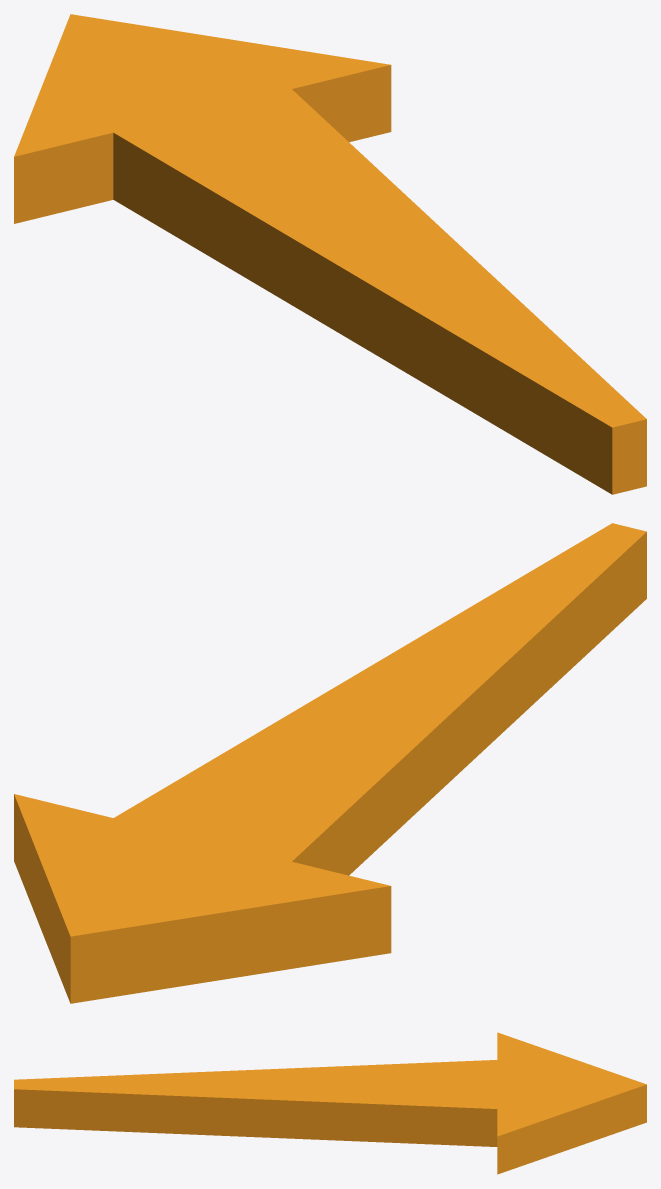
Rendered from SM_Icon_Arrow_Long_02.fbx.
3 views of the same model, one above another, from view 1: azimuth 30°, elevation 25°; view 2: azimuth 150°, elevation 25°; view 3: azimuth 270°, elevation 25° (orthographic). The views are drawn at different scales.
Visible parts, largest first — view 1: SM_Icon_Arrow_Long_02; view 2: SM_Icon_Arrow_Long_02; view 3: SM_Icon_Arrow_Long_02.
Boxes of the visible parts, x1=… form: SM_Icon_Arrow_Long_02: x1=14, y1=14, x2=646, y2=494; SM_Icon_Arrow_Long_02: x1=14, y1=523, x2=646, y2=1003; SM_Icon_Arrow_Long_02: x1=14, y1=1032, x2=646, y2=1174.
Size of the model in its own units: 45.28 by 7.71 by 116.
